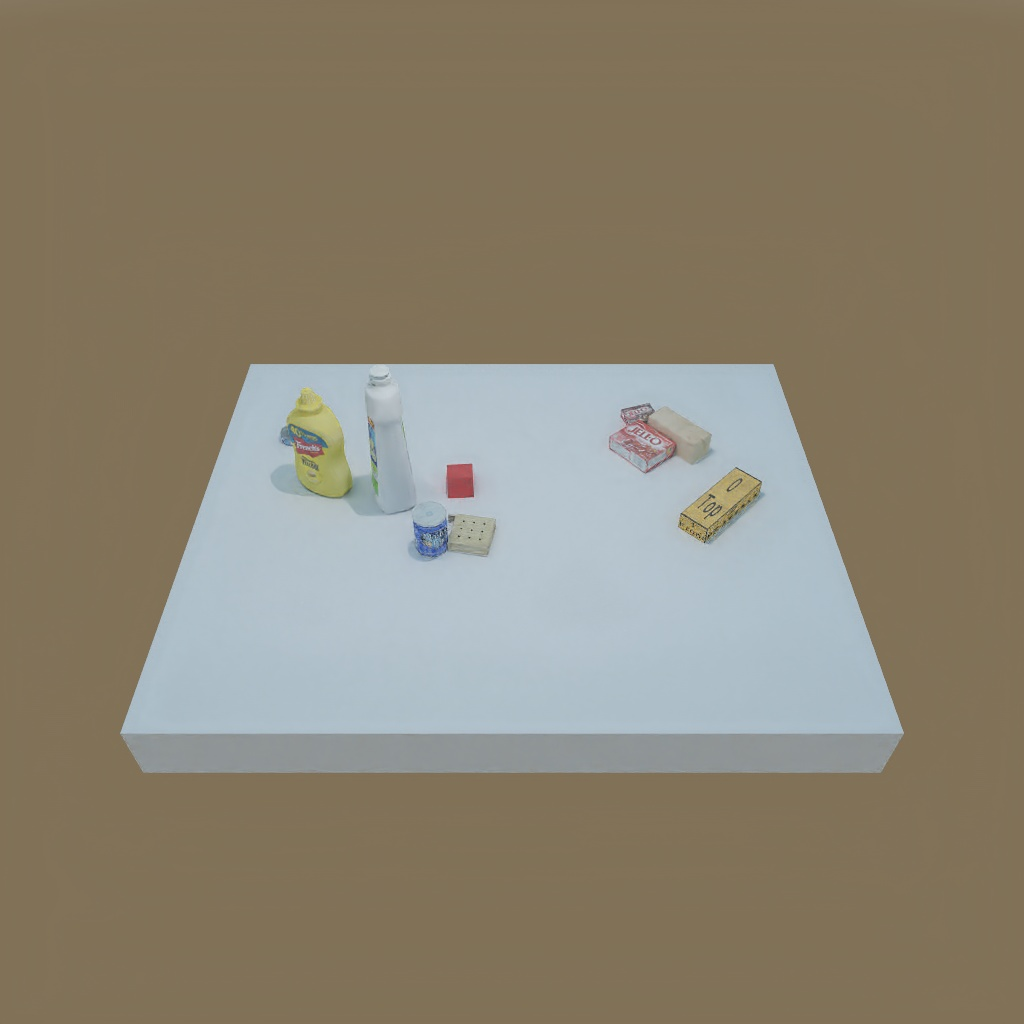gelatin_box: (606, 425, 680, 471)
jenga: (681, 467, 762, 542)
master_chef_can: (403, 491, 450, 561)
mustard_bottle: (288, 391, 352, 501)
nine_hole_peg_test: (444, 513, 497, 555)
pudding_box: (619, 400, 654, 425)
wood_block: (642, 405, 713, 464)
